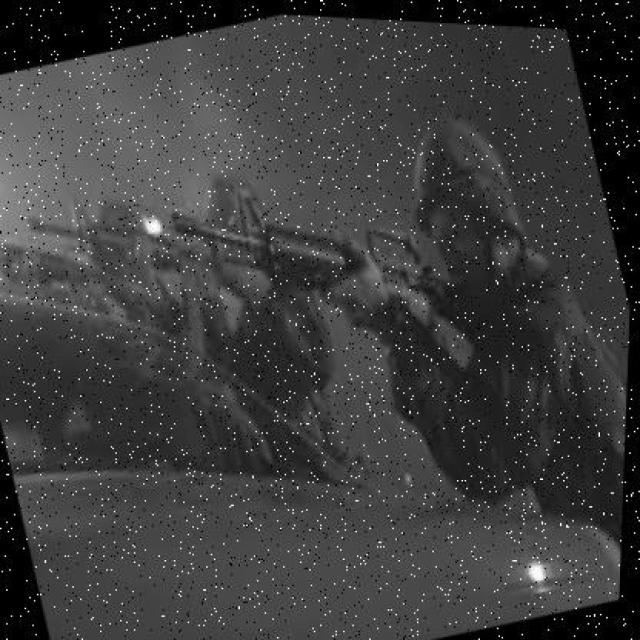weapon: (168, 180, 474, 337), (28, 205, 260, 308)
